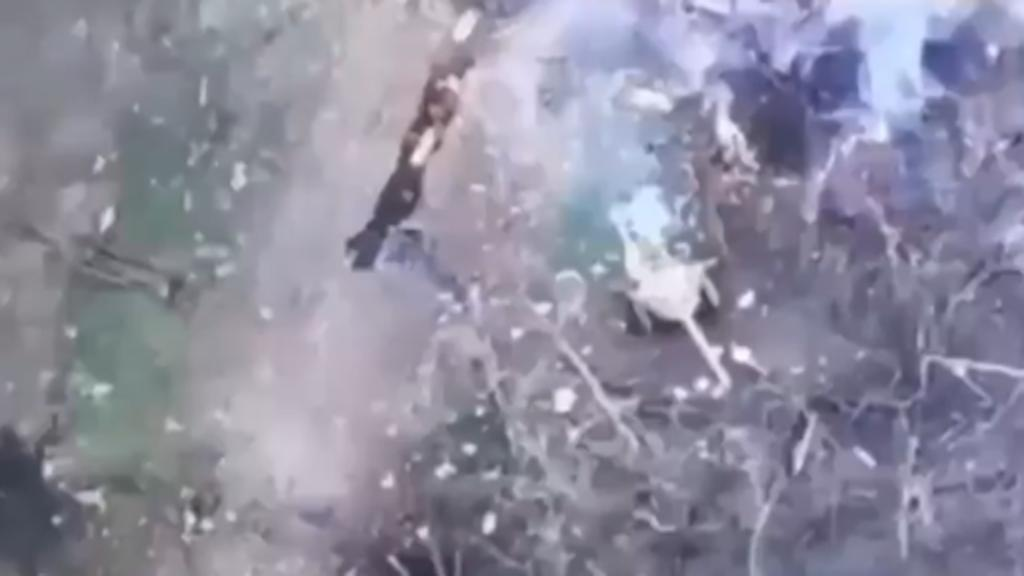ART: (614, 227, 740, 392)
